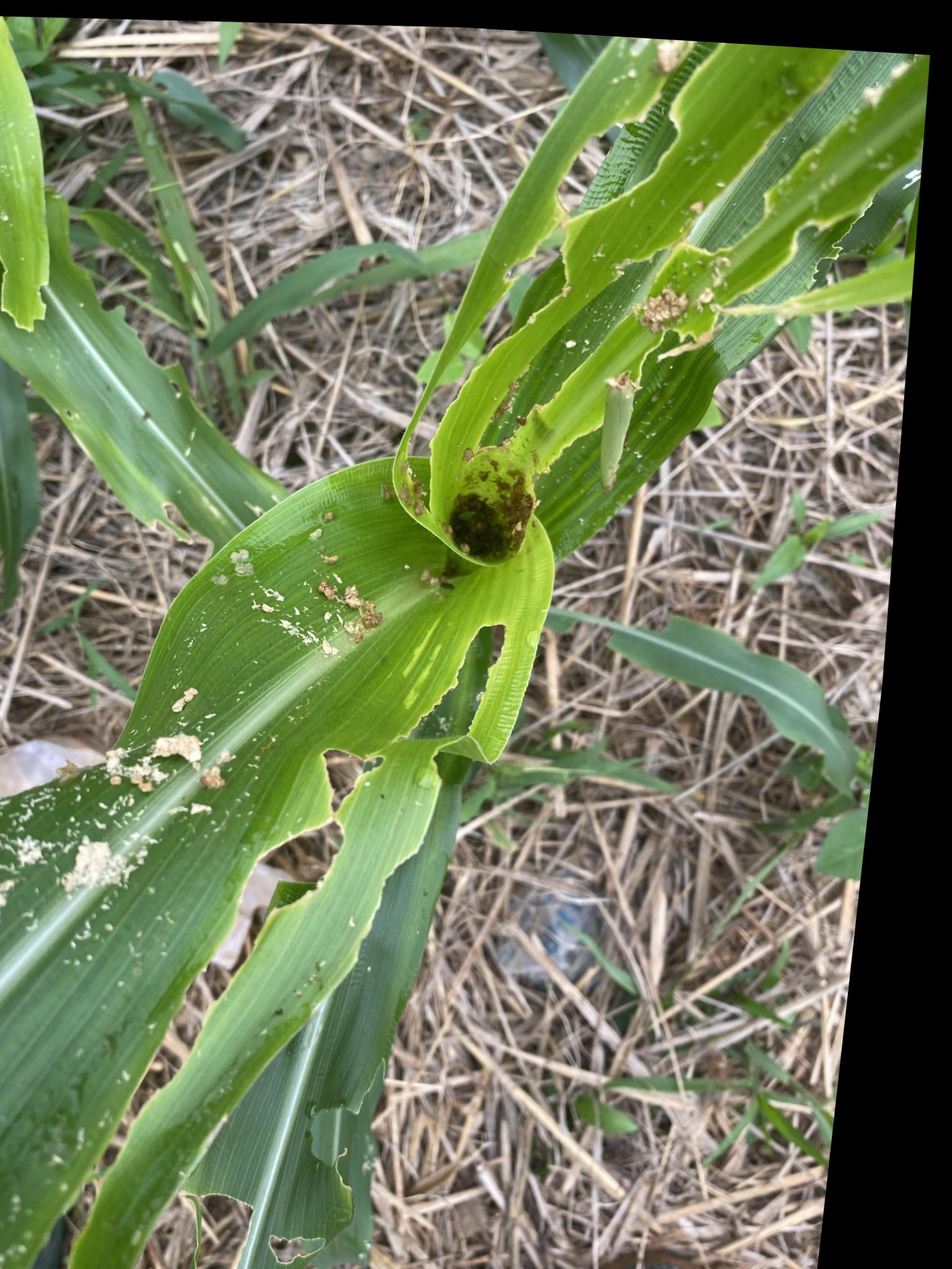early_to_moderate: (0, 802, 186, 944), (97, 719, 270, 825), (262, 545, 410, 660), (438, 439, 547, 568), (172, 670, 232, 719), (403, 456, 444, 517)
severe: (179, 796, 518, 1173), (15, 959, 320, 1268), (307, 603, 584, 846), (216, 1018, 465, 1268), (37, 238, 243, 413), (556, 560, 740, 678), (89, 472, 244, 577), (634, 270, 707, 328)
